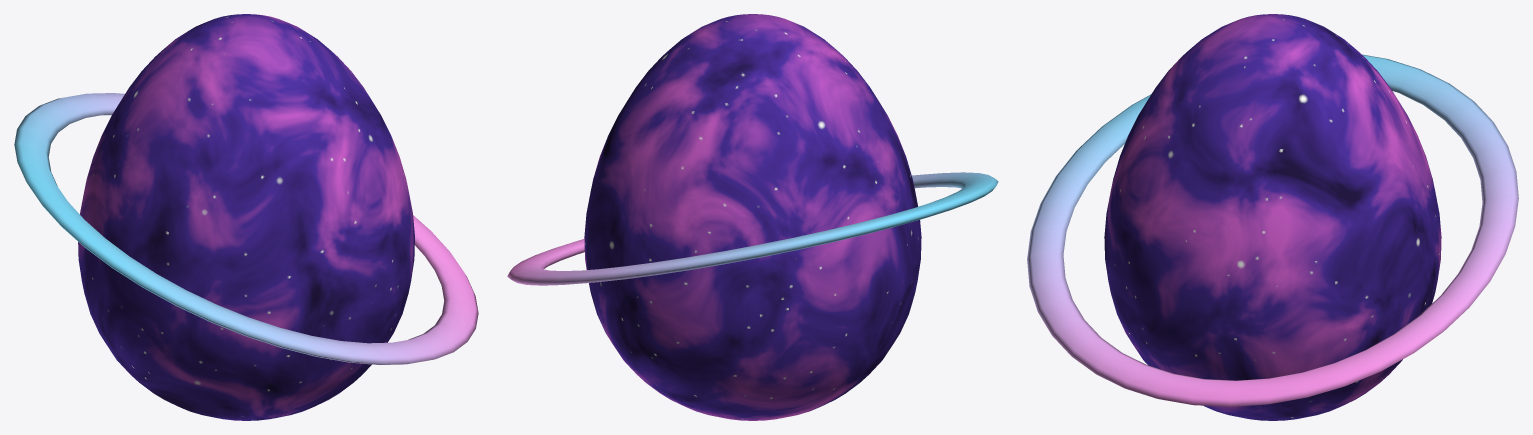
File: Galaxy Egg.fbx
The picture shows the model from 3 angles, left to right: view 1: azimuth 30°, elevation 25°; view 2: azimuth 150°, elevation 25°; view 3: azimuth 270°, elevation 25°; orthographic projection.
Visible parts, largest first — view 1: Galaxy Egg; view 2: Galaxy Egg; view 3: Galaxy Egg.
Boxes of the visible parts, <box> form: Galaxy Egg: <box>14,14,478,420</box>; Galaxy Egg: <box>507,14,998,420</box>; Galaxy Egg: <box>1027,14,1518,420</box>.
Bounding box in the file's own units: 5.6 × 5 × 5.84.
1 material, 1 textured.
